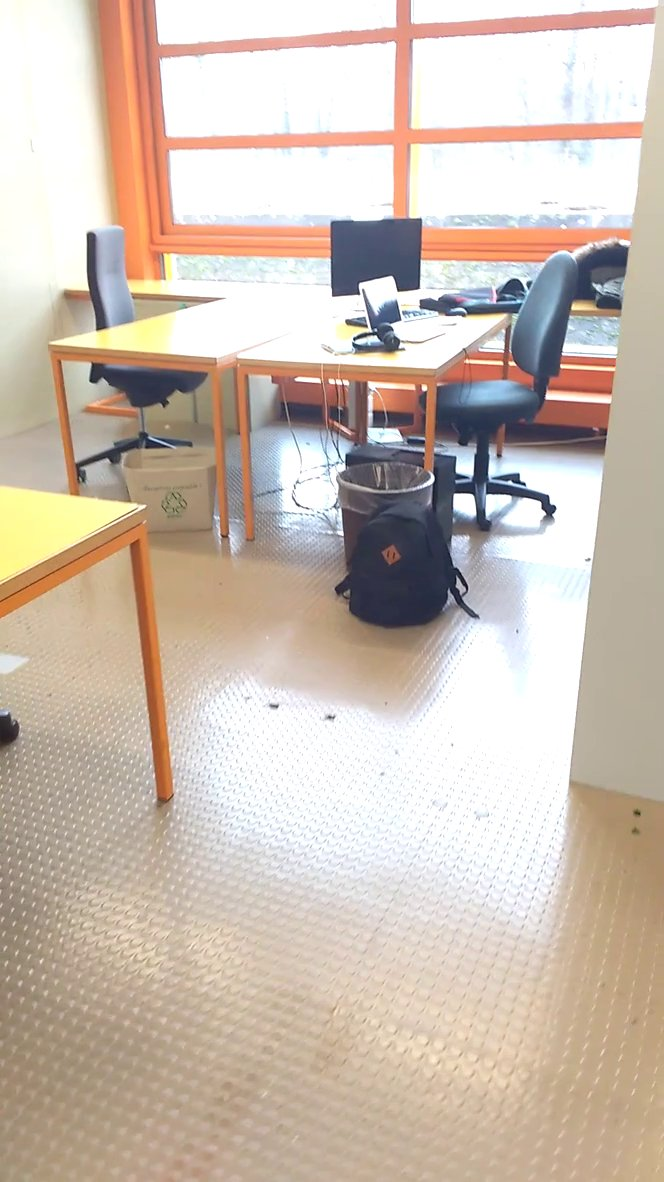bag: (329, 494, 487, 634)
bin: (330, 453, 448, 536)
box: (112, 442, 231, 539)
chair: (409, 244, 580, 529), (79, 219, 213, 407)
laptop: (353, 268, 462, 346)
